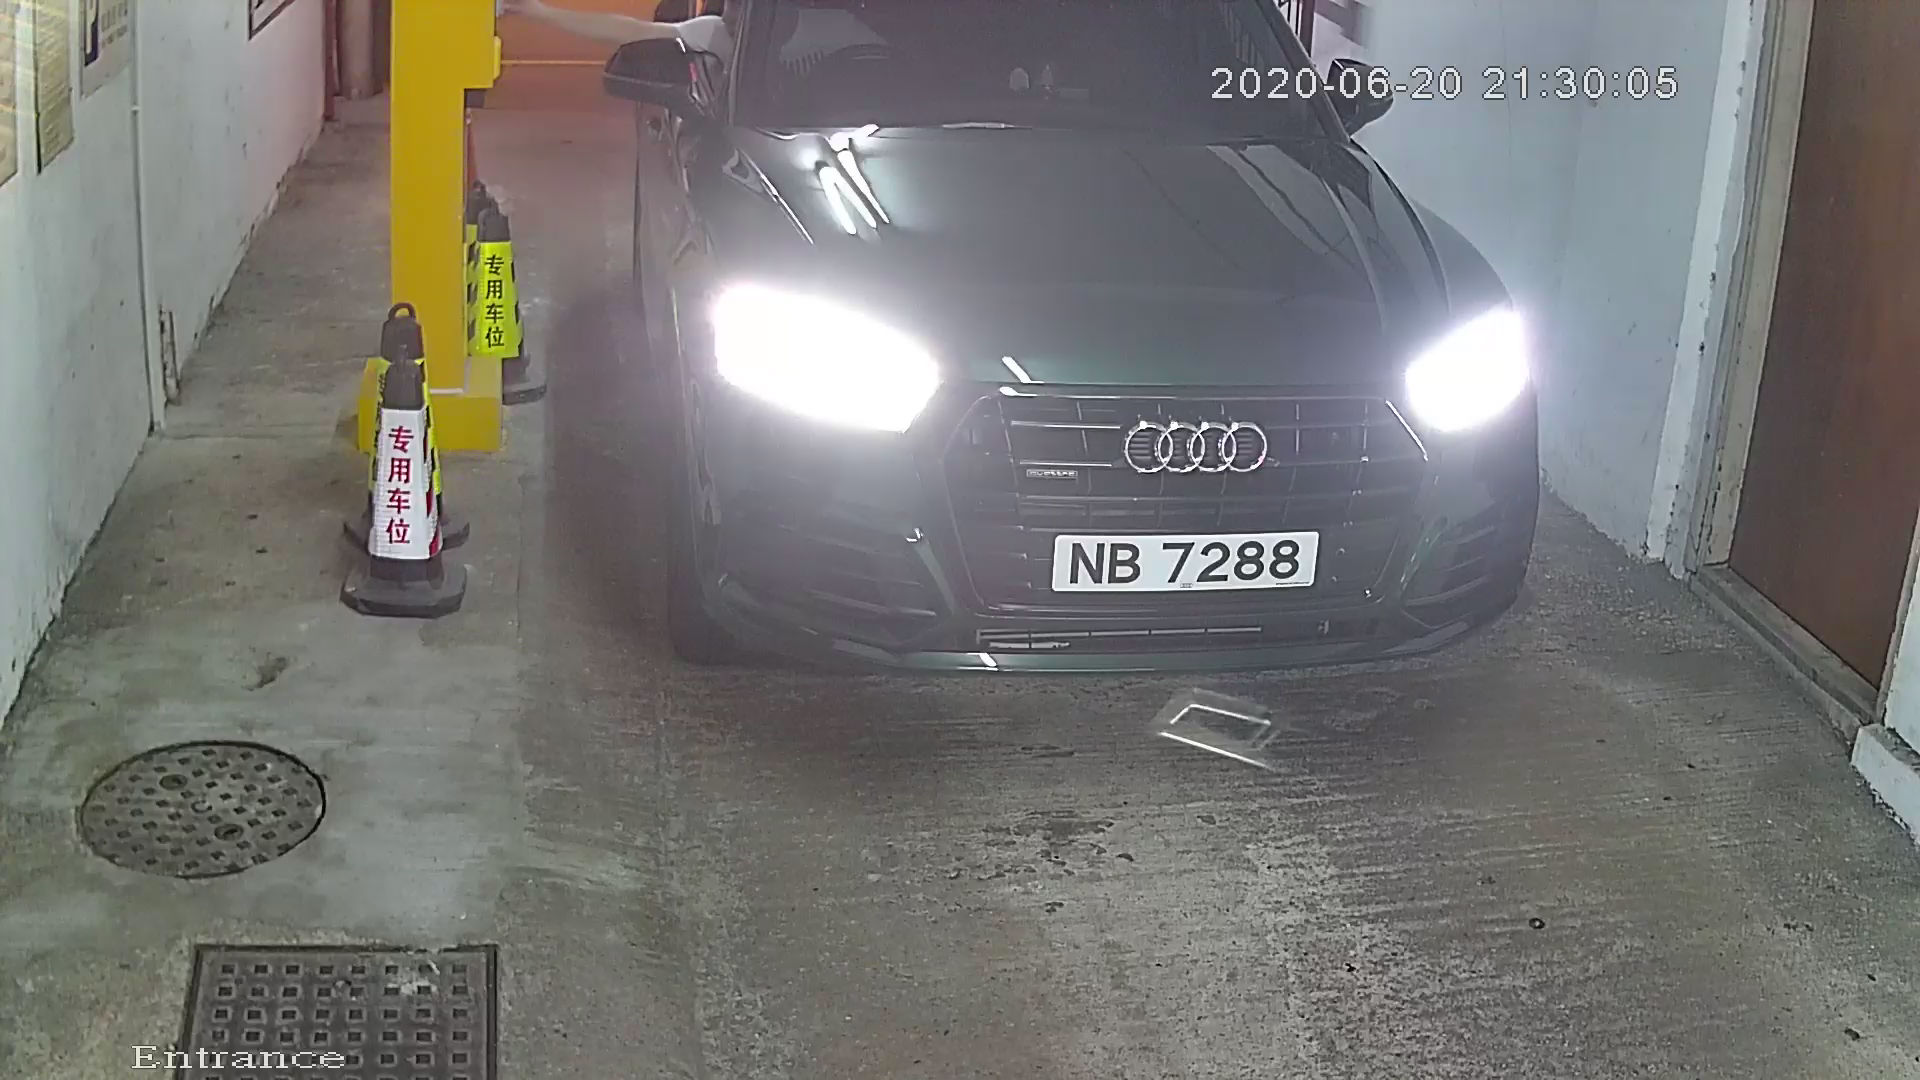privatecar: (564, 1, 1606, 802)
